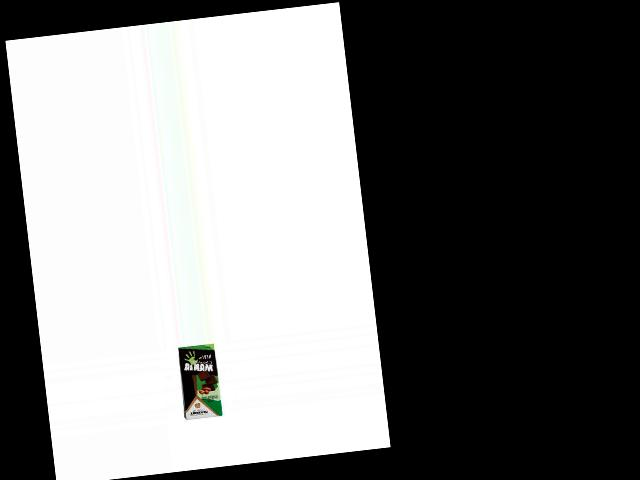chocolate: (175, 342, 224, 421)
